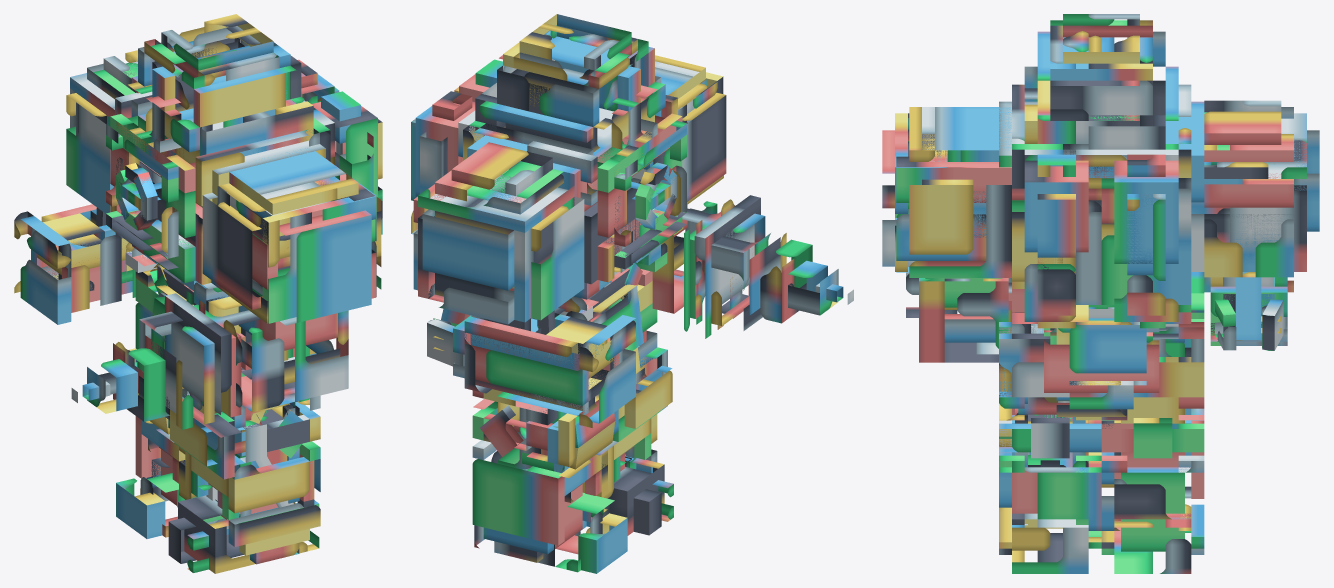
The model's file is power_armor.obj.
3 renders of one model, left to right at view 1: azimuth 30°, elevation 25°; view 2: azimuth 150°, elevation 25°; view 3: azimuth 270°, elevation 25°, orthographic. The views are drawn at different scales.
Visible parts, largest first — view 1: cube.005; view 2: cube.005; view 3: cube.005.
Boxes of the visible parts, left/top/right/bottom form: cube.005: left=14, top=14, right=382, bottom=573; cube.005: left=411, top=14, right=853, bottom=573; cube.005: left=882, top=14, right=1319, bottom=573.
Size of the model in its own units: 2 by 2.75 by 2.13.
